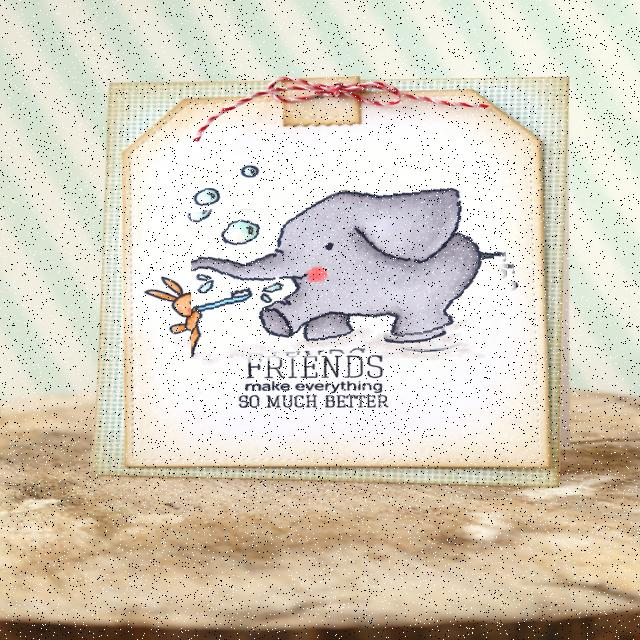elephant: (191, 188, 517, 360)
